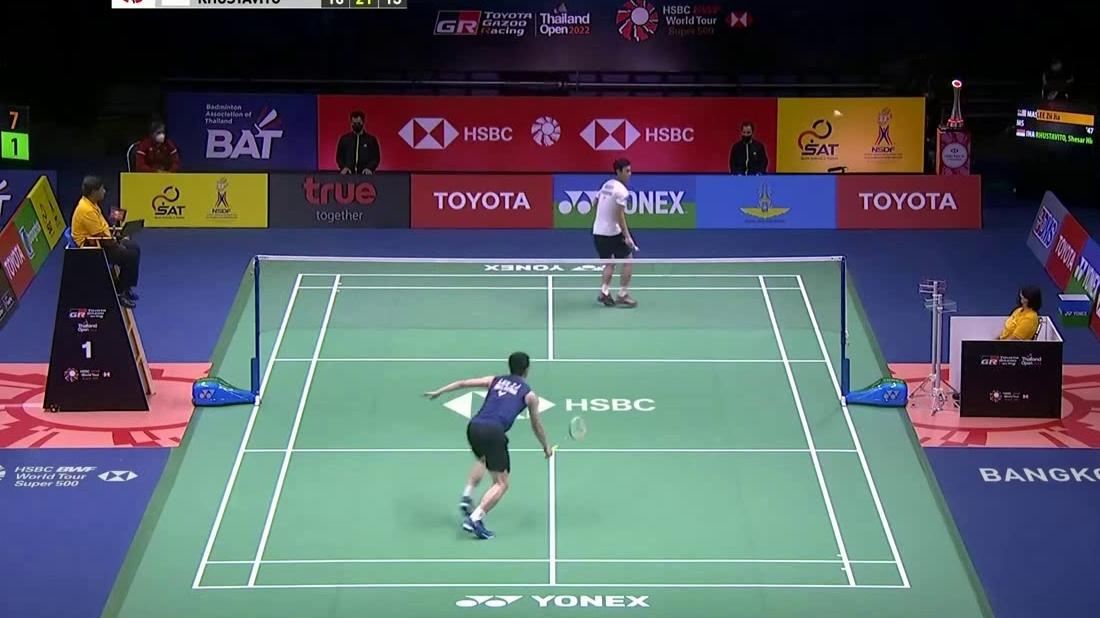racket: (551, 415, 589, 458), (629, 243, 673, 276)
shuttle: (832, 108, 844, 118)
